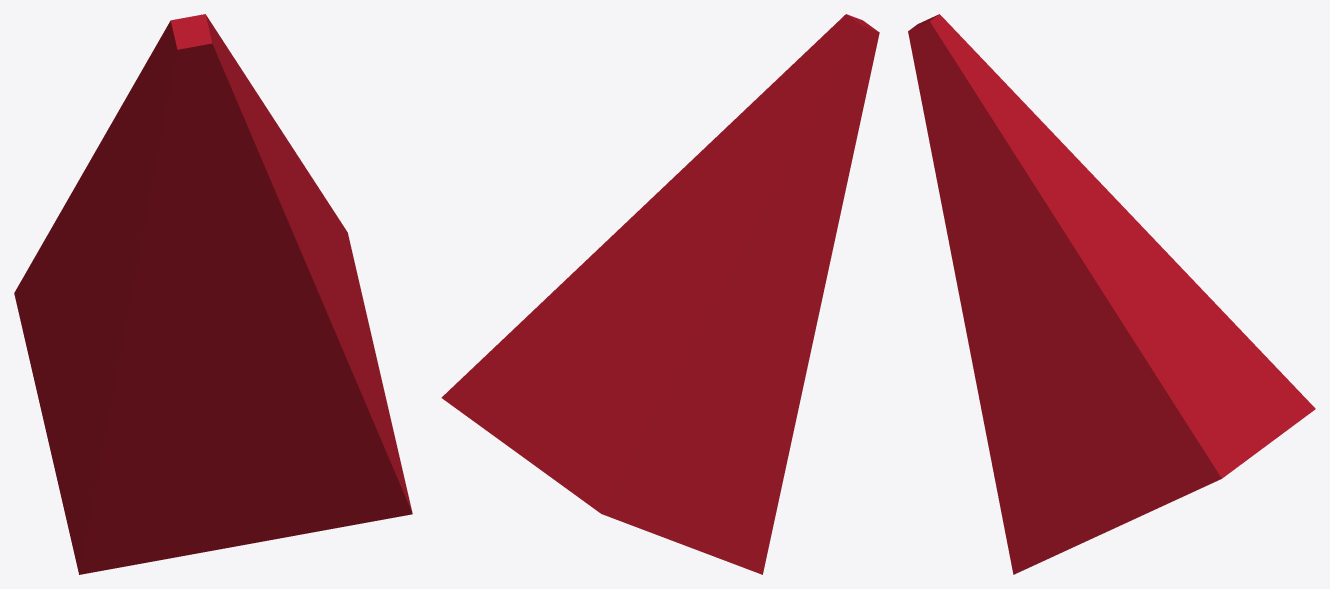
Rendered from tree-dead-leaves-017.glb.
The picture shows the model from 3 angles, left to right: view 1: azimuth 30°, elevation 25°; view 2: azimuth 150°, elevation 25°; view 3: azimuth 270°, elevation 25°; orthographic projection. The views are drawn at different scales.
Parts seen in each view (by area): view 1: Cube.078_451; view 2: Cube.078_451; view 3: Cube.078_451.
Part boxes in pixels (x1,y1,x2,y2): Cube.078_451: [14, 14, 412, 574]; Cube.078_451: [441, 14, 879, 574]; Cube.078_451: [908, 14, 1315, 574].
Size of the model in its own units: 0.2056 by 0.3409 by 0.2588.
